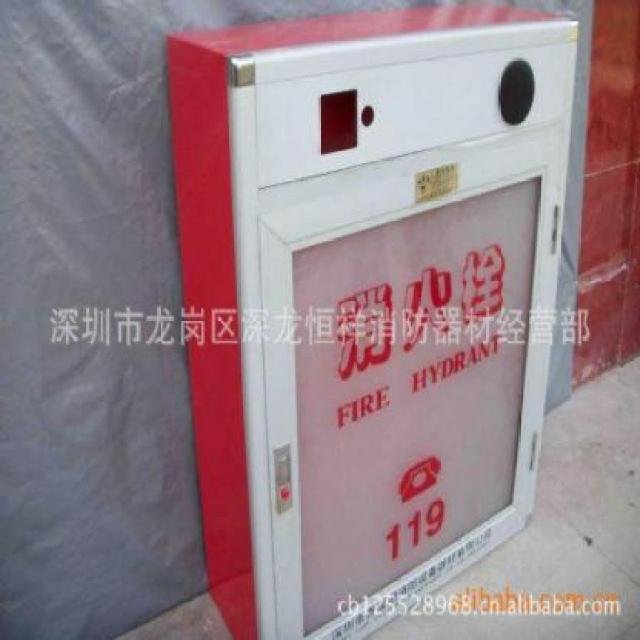firehydrant: (163, 0, 583, 640)
